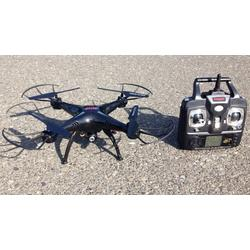drone: (1, 80, 177, 163)
